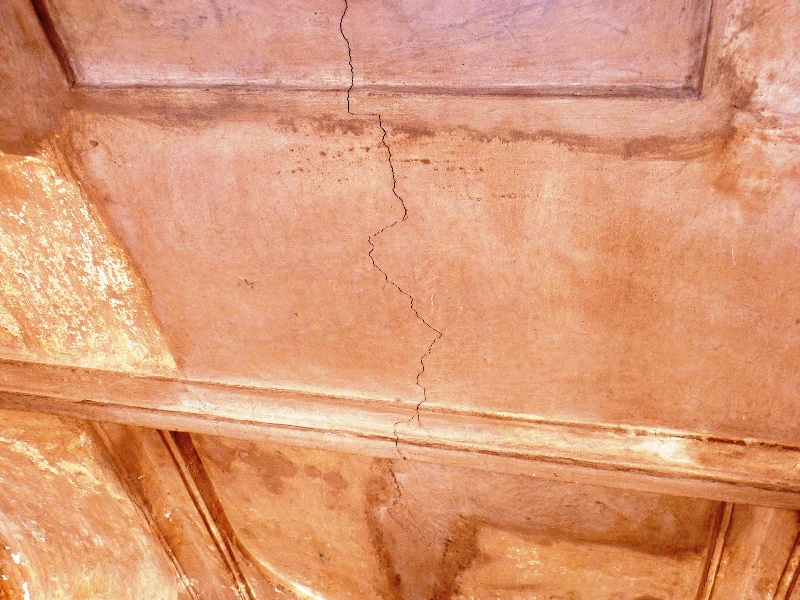Crack: (328, 1, 451, 455)
